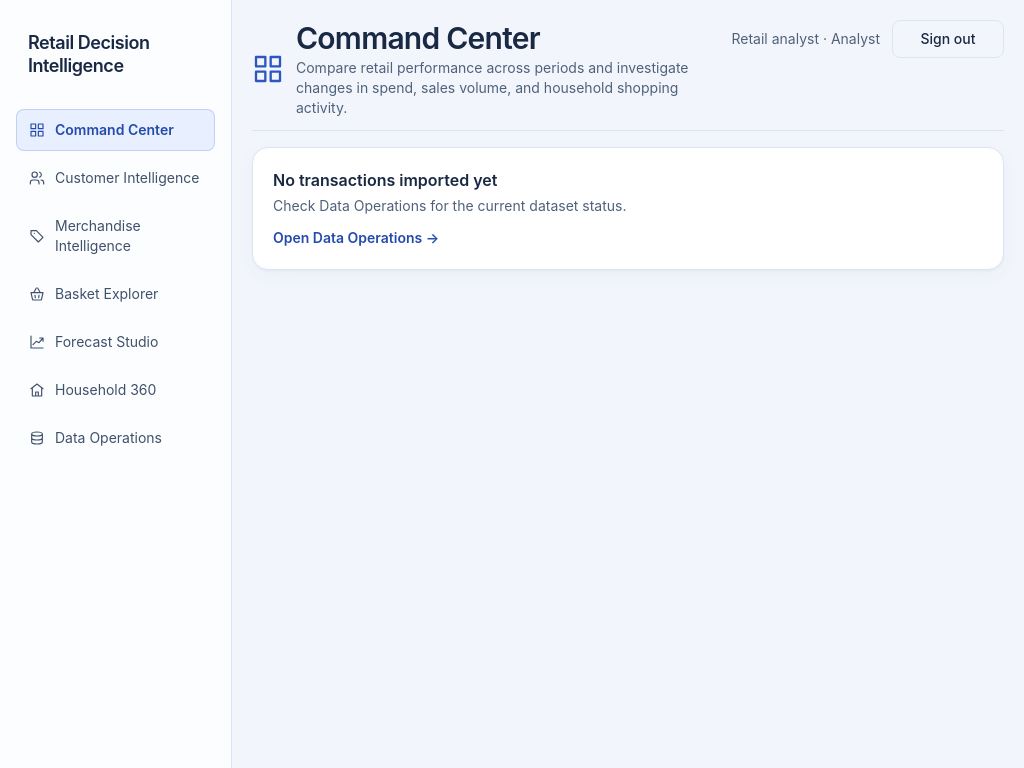
workspace shell › navigates between workspaces
Click the link "Data Operations" at (96, 438), box top-left (29, 429), bottom-right (162, 446)
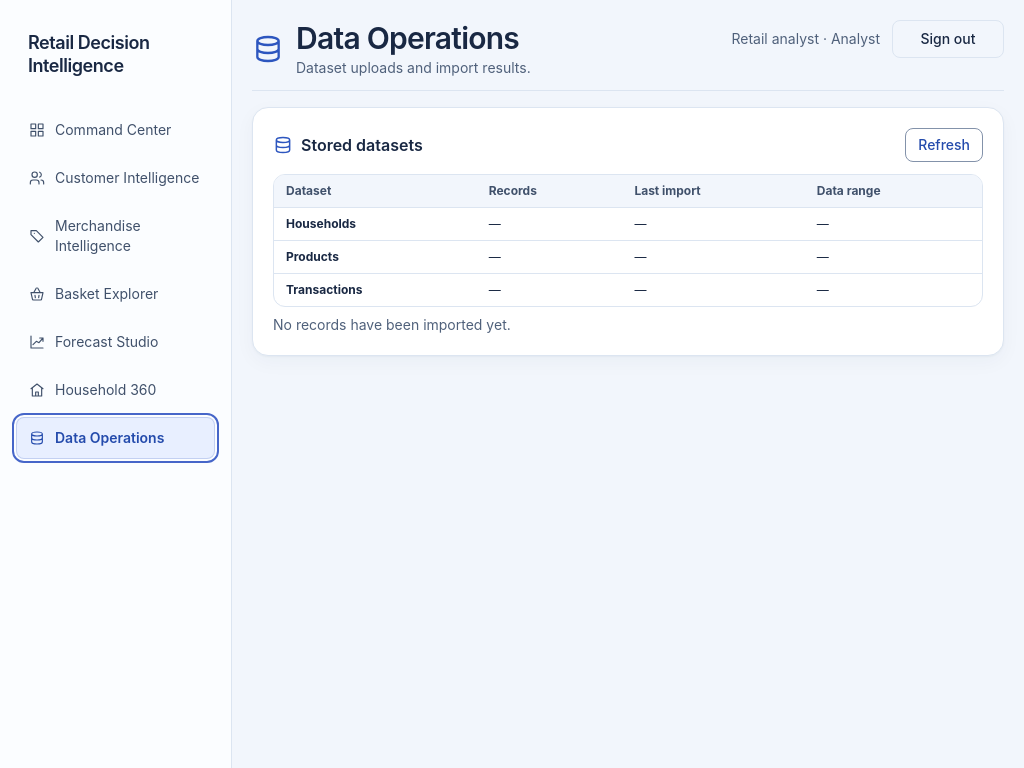
Result: the heading "Data Operations" is shown at top-left (296, 20), bottom-right (531, 56)
